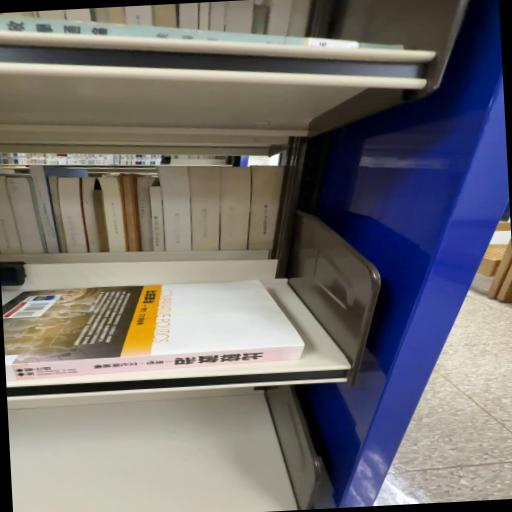flat: (3, 282, 305, 382)
